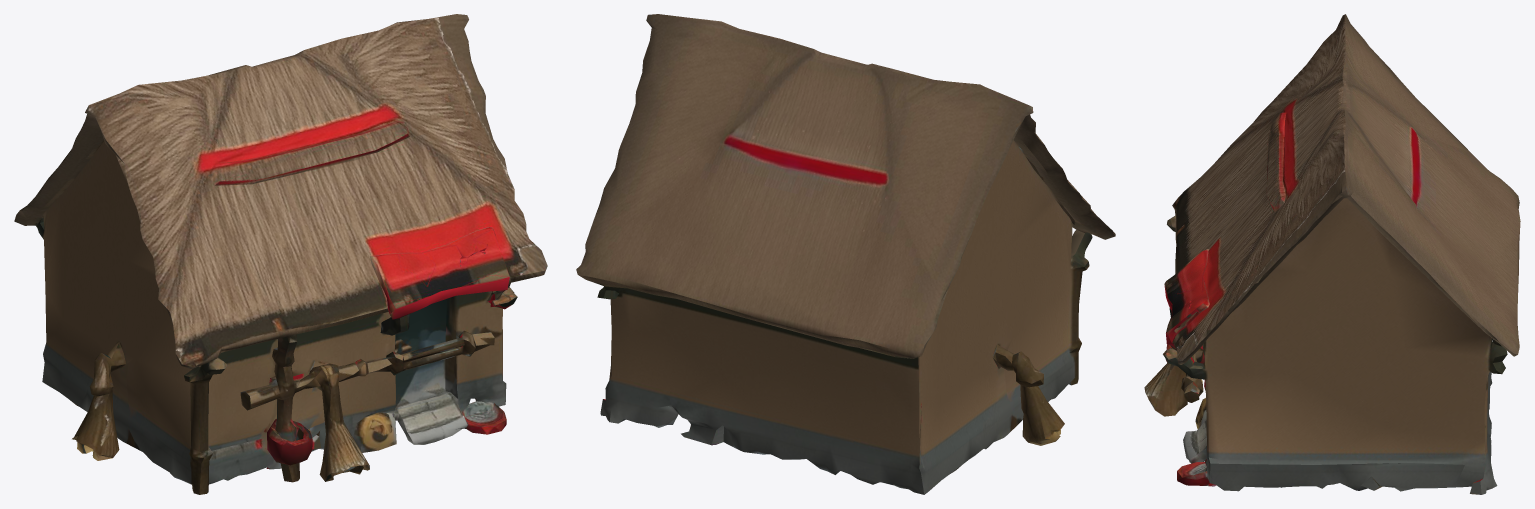
Rendered from guaranies_campo_tiro.glb.
The picture shows the model from 3 angles, left to right: view 1: azimuth 30°, elevation 25°; view 2: azimuth 150°, elevation 25°; view 3: azimuth 270°, elevation 25°; orthographic projection. The views are drawn at different scales.
Visible parts, largest first — view 1: geometry_0; view 2: geometry_0; view 3: geometry_0.
Part boxes in pixels (x1,y1,x2,y2): geometry_0: (14,14,547,494); geometry_0: (576,14,1115,494); geometry_0: (1144,14,1520,494).
Size of the model in its own units: 2.4 by 1.99 by 2.07.
1 material, 1 textured.
